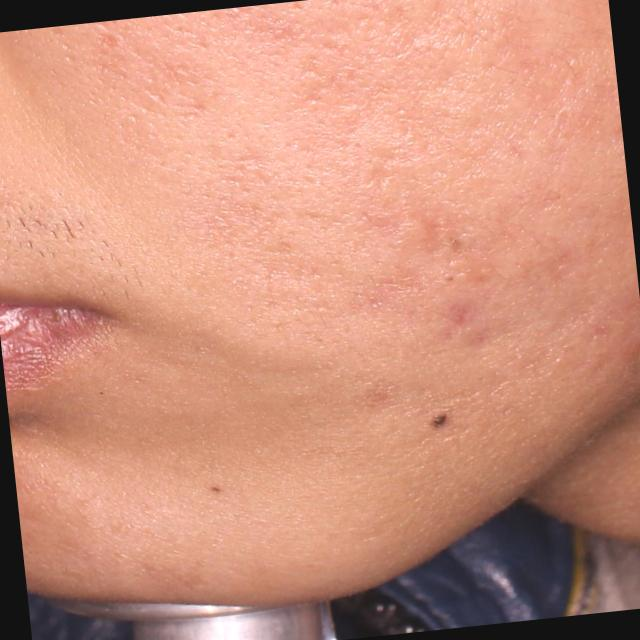blackhead: (432, 414, 446, 426), (451, 238, 458, 245), (213, 486, 219, 492), (98, 390, 104, 396), (449, 277, 454, 280), (557, 196, 560, 198)
